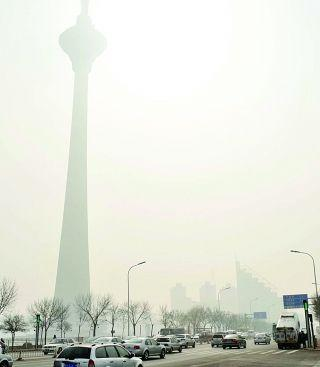car: (52, 340, 143, 367), (121, 336, 165, 358), (39, 337, 79, 356), (88, 336, 126, 354), (154, 335, 183, 353), (221, 332, 246, 349), (175, 332, 196, 348), (210, 333, 229, 348), (253, 331, 271, 344)
